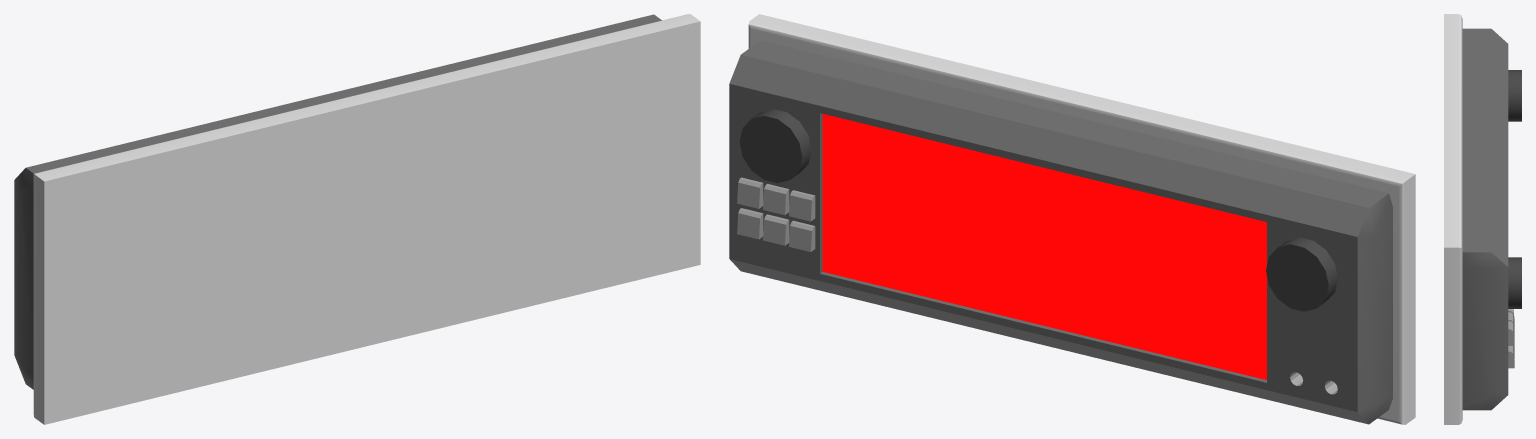
File: Radio.fbx
3 renders of one model, left to right at view 1: azimuth 30°, elevation 25°; view 2: azimuth 150°, elevation 25°; view 3: azimuth 270°, elevation 25°, orthographic. The views are drawn at different scales.
Parts seen in each view (by area): view 1: Radio; view 2: Radio; view 3: Radio.
Boxes of the visible parts, left/top/right/bottom form: Radio: left=14, top=14, right=700, bottom=424; Radio: left=729, top=14, right=1415, bottom=424; Radio: left=1444, top=14, right=1521, bottom=424.
Bounding box in the file's own units: 29.92 × 10.61 × 4.21.
